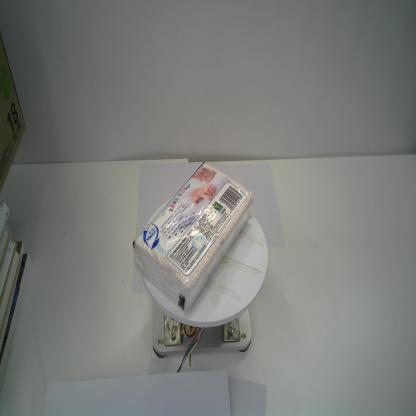Tissue: (131, 160, 254, 312)
